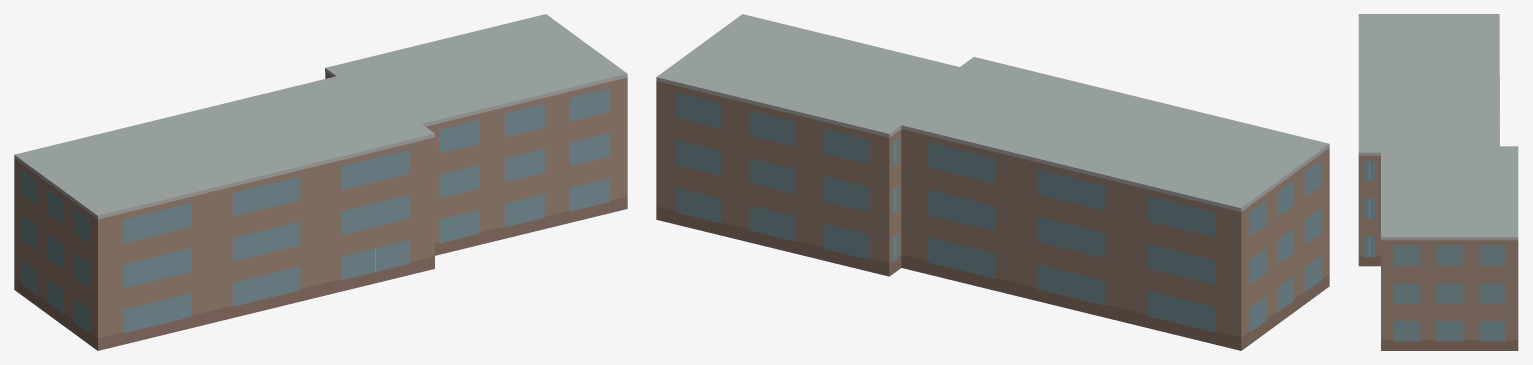
Rendered from survey-upis-32905464.glb.
3 renders of one model, left to right at view 1: azimuth 30°, elevation 25°; view 2: azimuth 150°, elevation 25°; view 3: azimuth 270°, elevation 25°, orthographic. The views are drawn at different scales.
Visible parts, largest first — view 1: survey-upis-32905464.tmp; view 2: survey-upis-32905464.tmp; view 3: survey-upis-32905464.tmp.
Part boxes in pixels (x1=…): survey-upis-32905464.tmp: x1=14, y1=14, x2=627, y2=350; survey-upis-32905464.tmp: x1=656, y1=14, x2=1329, y2=350; survey-upis-32905464.tmp: x1=1358, y1=14, x2=1518, y2=350.
Bounding box in the file's own units: 38.52 × 9.15 × 11.68.
